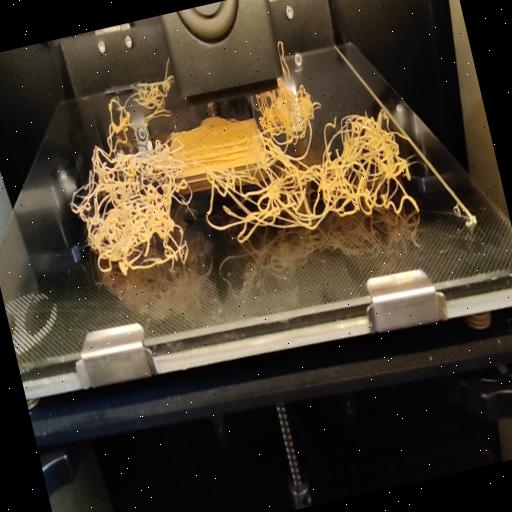spaghetti: (54, 62, 424, 294), (99, 59, 182, 128), (275, 34, 299, 84)
